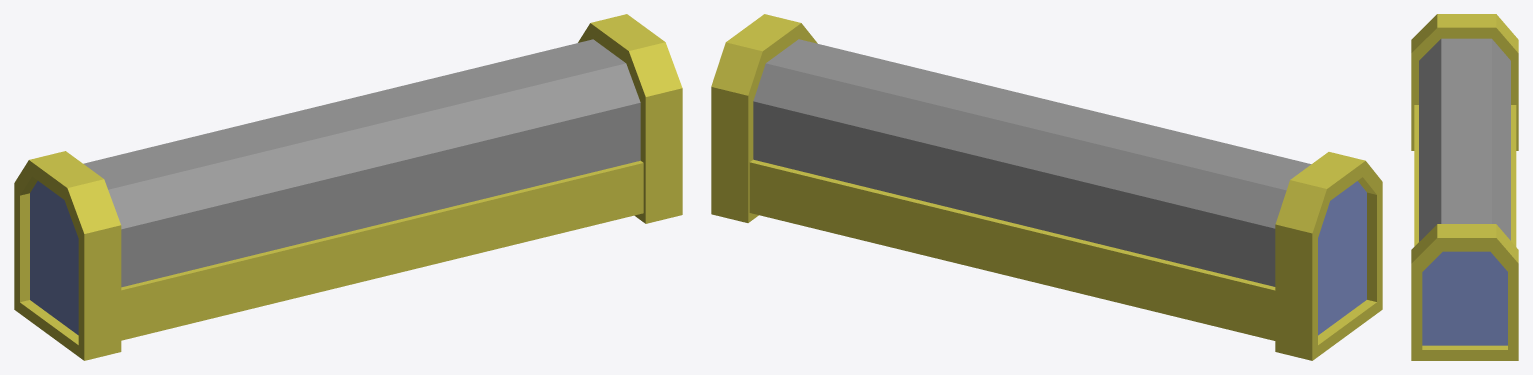
File: fragment 02 01.fbx
3 renders of one model, left to right at view 1: azimuth 30°, elevation 25°; view 2: azimuth 150°, elevation 25°; view 3: azimuth 270°, elevation 25°, orthographic. The views are drawn at different scales.
Visible parts, largest first — view 1: Cube, Cube.001, Cube.002; view 2: Cube, Cube.001, Cube.002; view 3: Cube, Cube.002, Cube.001.
Boxes of the visible parts, x1,y1,x2,y2 form: Cube: (83,39,643,340); Cube.001: (14,151,121,360); Cube.002: (578,14,682,223); Cube: (749,39,1311,340); Cube.001: (1275,152,1382,360); Cube.002: (711,14,817,222); Cube: (1414,38,1516,246); Cube.002: (1411,224,1518,360); Cube.001: (1411,14,1518,150).
Bounding box in the file's own units: 1155 × 296 × 234.
